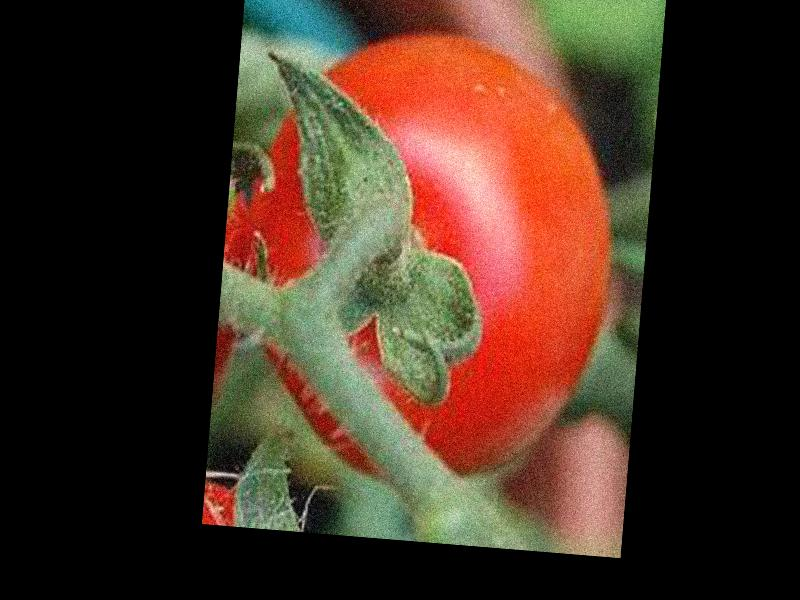Tomato: (216, 18, 626, 499)
